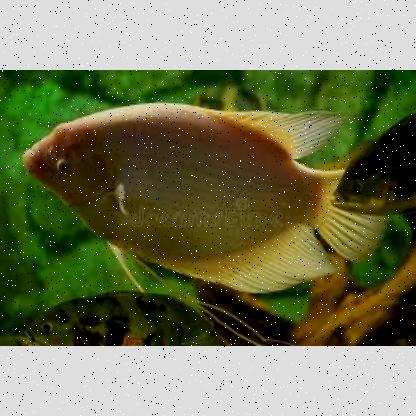gurame: (26, 102, 330, 286)
